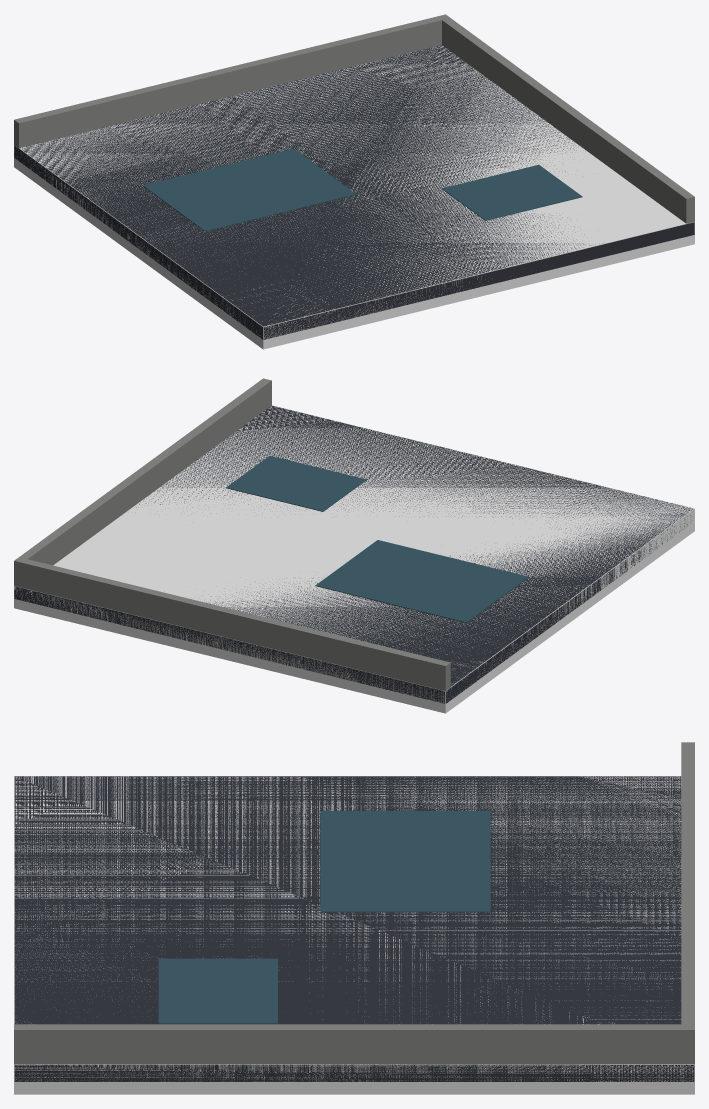
File: roof_tile_wet.glb
3 renders of one model, top to bottom at view 1: azimuth 30°, elevation 25°; view 2: azimuth 150°, elevation 25°; view 3: azimuth 270°, elevation 25°, orthographic. The views are drawn at different scales.
Parts seen in each view (by area): view 1: tile_mesh, roof_tile_wet-col; view 2: tile_mesh, roof_tile_wet-col; view 3: tile_mesh, roof_tile_wet-col.
Part boxes in pixels (bbox=[...]): tile_mesh: bbox=[14, 14, 694, 339]; roof_tile_wet-col: bbox=[14, 45, 694, 349]; tile_mesh: bbox=[14, 378, 692, 703]; roof_tile_wet-col: bbox=[14, 405, 694, 713]; tile_mesh: bbox=[14, 742, 694, 1081]; roof_tile_wet-col: bbox=[14, 776, 694, 1094].
Size of the model in its own units: 4 by 0.42 by 4.
